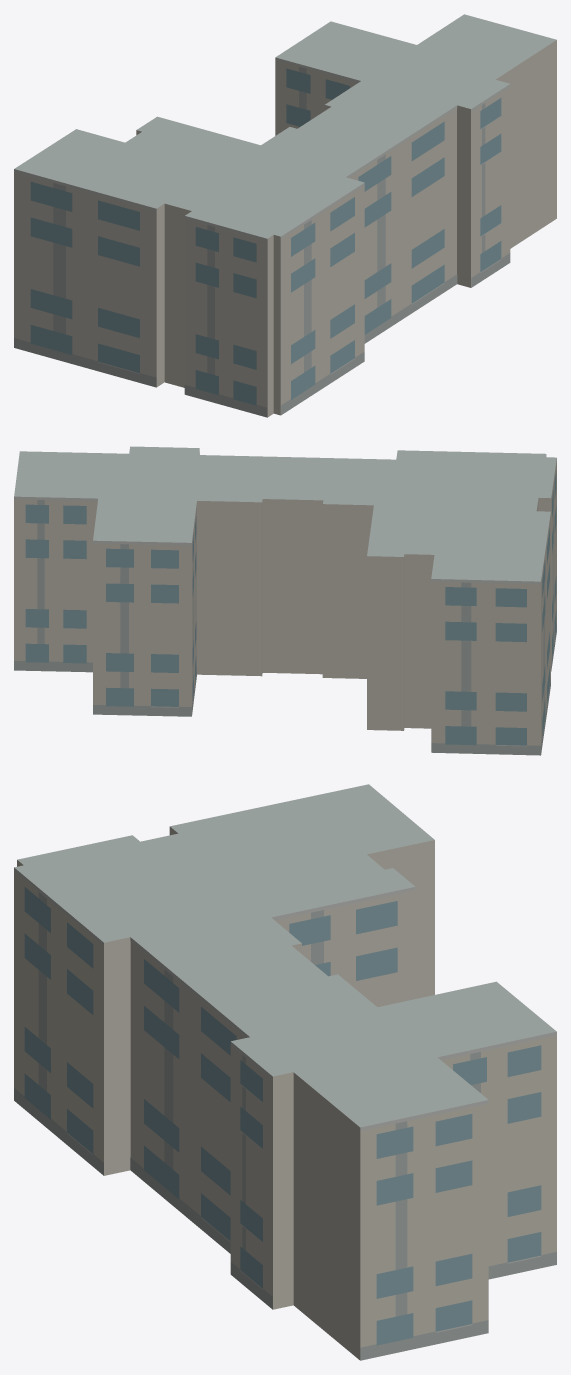
File: residential-d540148f-0f99-45a9-b4cb-fd7581f5de3f.glb
3 views of the same model, one above another, from view 1: azimuth 30°, elevation 25°; view 2: azimuth 150°, elevation 25°; view 3: azimuth 270°, elevation 25° (orthographic). The views are drawn at different scales.
Visible parts, largest first — view 1: residential-d540148f-0f99-45a9-b4cb-fd7581f5de3f.tmp; view 2: residential-d540148f-0f99-45a9-b4cb-fd7581f5de3f.tmp; view 3: residential-d540148f-0f99-45a9-b4cb-fd7581f5de3f.tmp.
Part boxes in pixels (x1,y1,x2,y2): residential-d540148f-0f99-45a9-b4cb-fd7581f5de3f.tmp: (14,14,556,417); residential-d540148f-0f99-45a9-b4cb-fd7581f5de3f.tmp: (14,446,556,755); residential-d540148f-0f99-45a9-b4cb-fd7581f5de3f.tmp: (14,784,556,1360).
Bounding box in the file's own units: 48.15 × 15.25 × 32.18.
